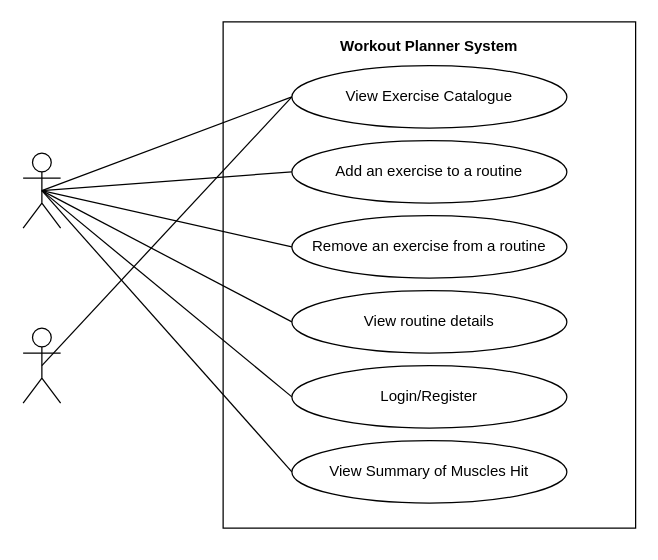
The diagram is 658 pixels wide and 560 high, and some of its shapes have lost their labels. The shapes that lost their labels are listed below. From the top down, each one's centre as x and y in pixels, then its label:
the point at 41,190: User
the point at 41,365: Guest
